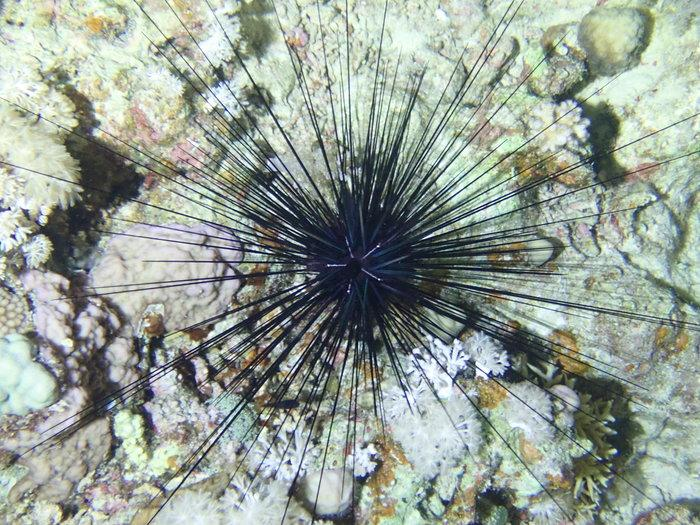urchin: (0, 2, 700, 525)
